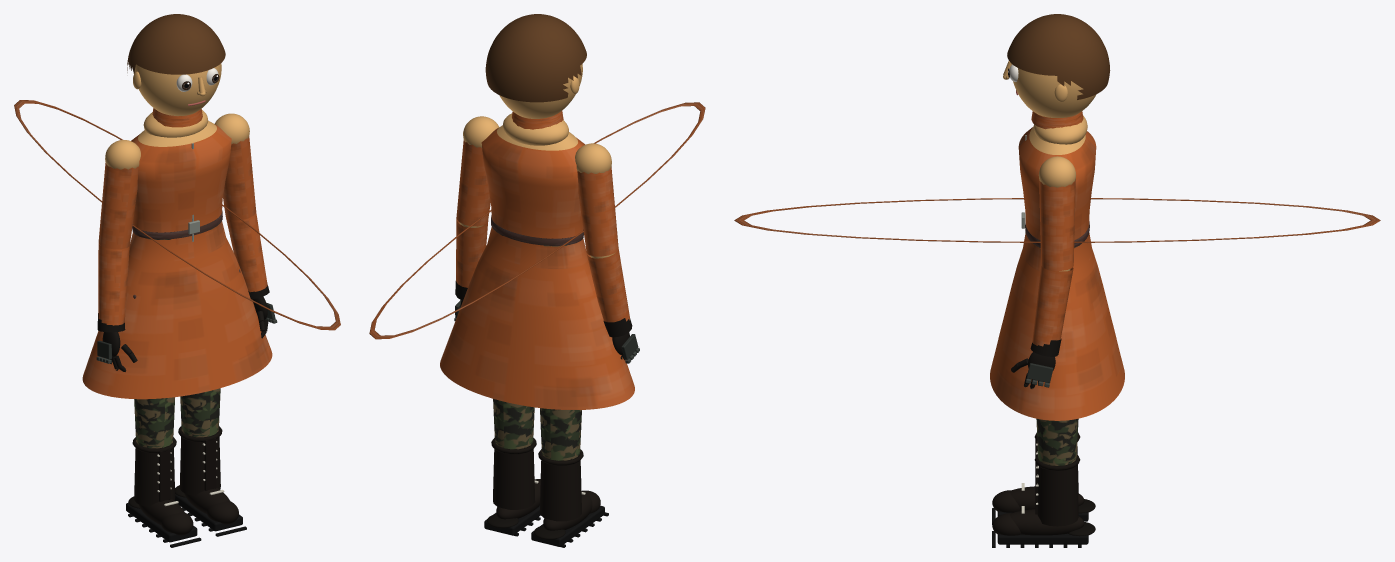
Rendered from 05-manteau-long.glb.
The picture shows the model from 3 angles, left to right: view 1: azimuth 30°, elevation 25°; view 2: azimuth 150°, elevation 25°; view 3: azimuth 270°, elevation 25°; orthographic projection. The views are drawn at different scales.
Bounding box in the file's own units: 0.6638 × 1.77 × 2.03.
Materials: 24 (5 with a texture image).
